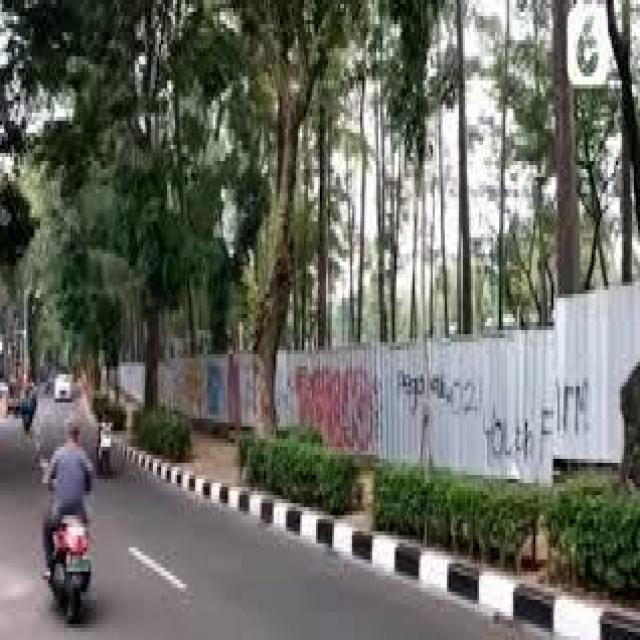nonspitting: (483, 378, 588, 462), (288, 362, 378, 448), (397, 362, 478, 417)
